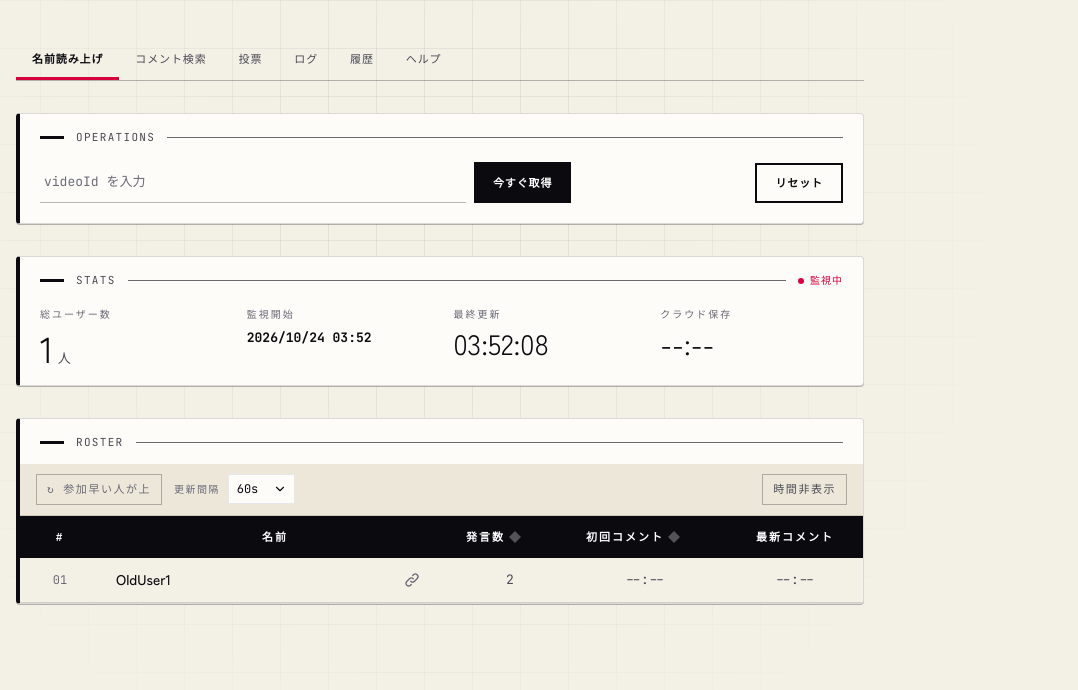
App Integration (MSW) › 切替実行時のみユーザーリストがクリアされる
The image size is (1078, 690).
手動でrefresh実行（MSWがレスポンスを確実に返すため）
Click the button "今すぐ取得".
click(523, 183)  # box [474,162,571,204]
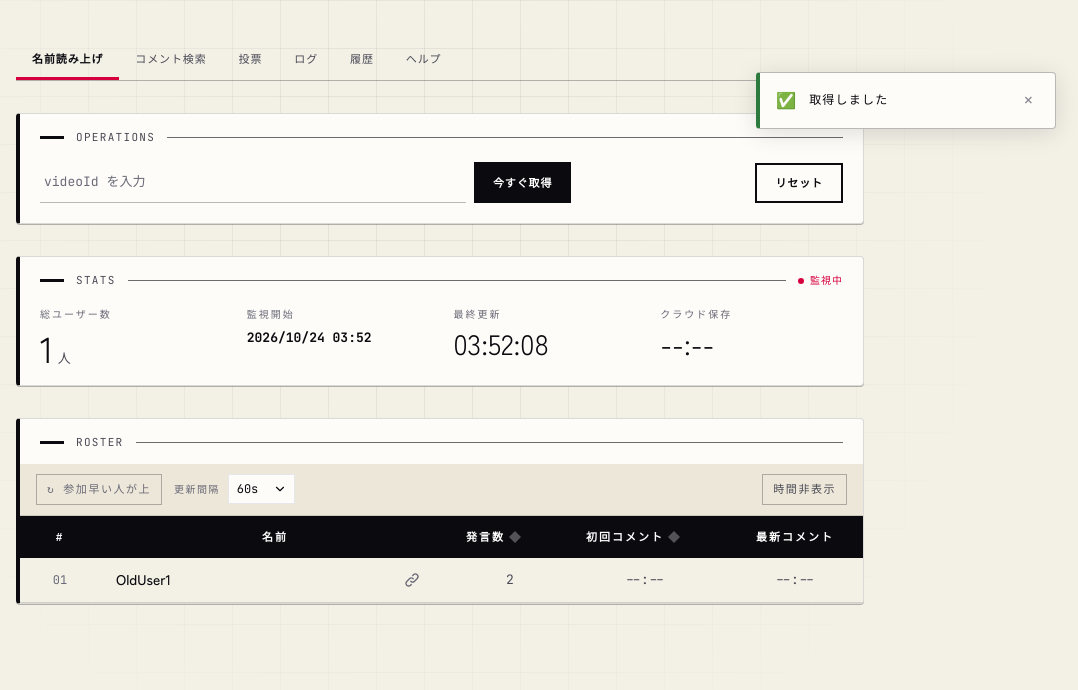
Expected: the text "OldUser1" is shown, [116,569,171,589]
Expected: the text "1" is shown, [40,321,54,373]
videoIdを入力して切替実行
Type "new-video-123" into the field labelled "videoId".
click(253, 183); type("new-video-123")  # box [40,162,466,204]
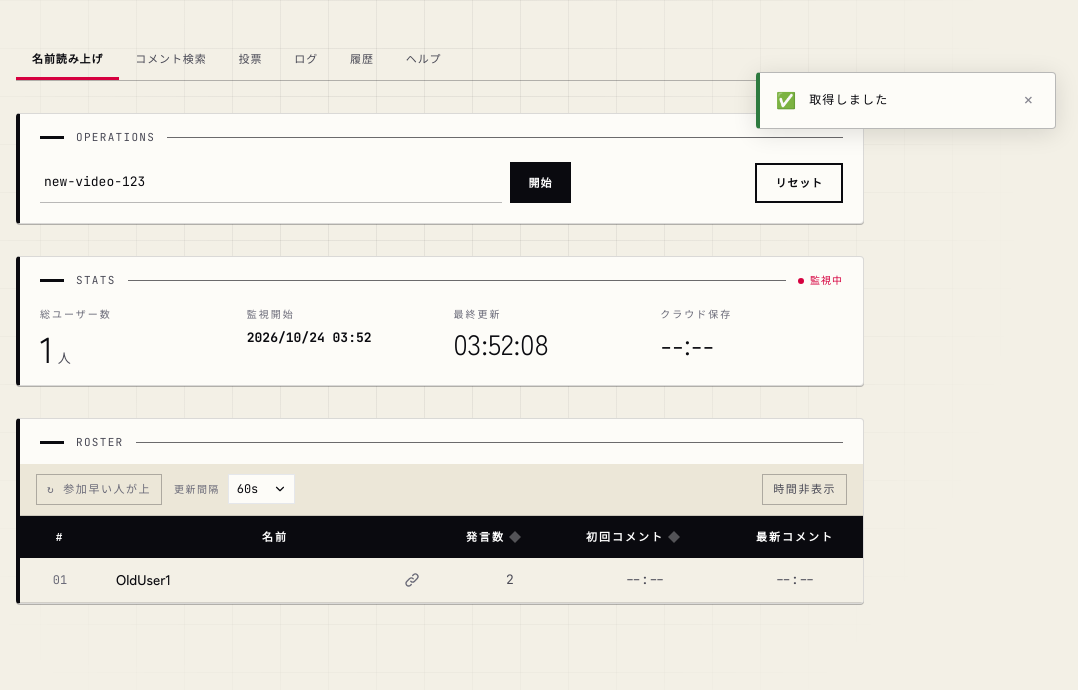
Click the button "開始".
click(540, 183)  # box [510,162,571,204]
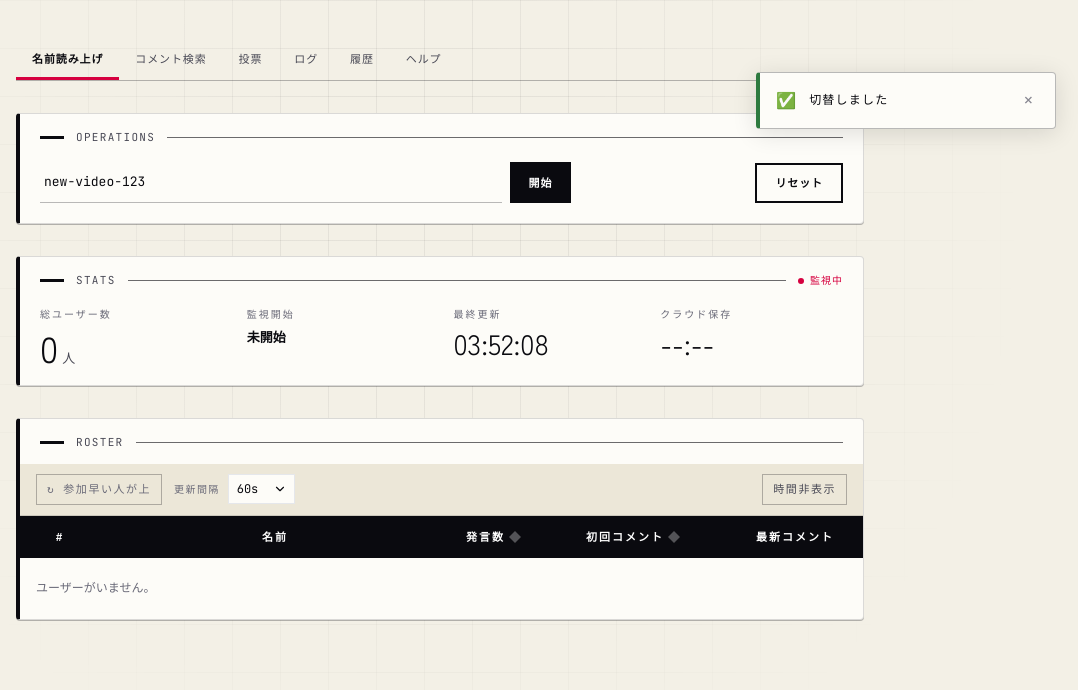
Result: the text "ユーザーがいません。" is shown at [36,580,155,596]
Result: the text "OldUser1" is gone
